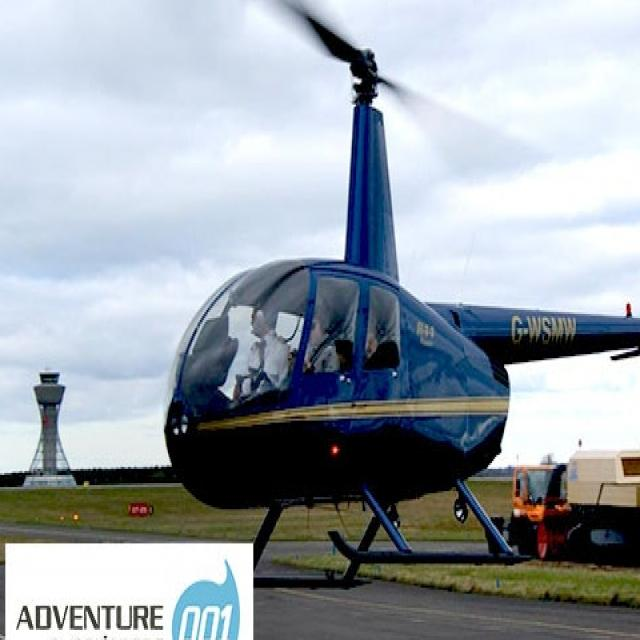helicopter: (166, 1, 640, 589)
